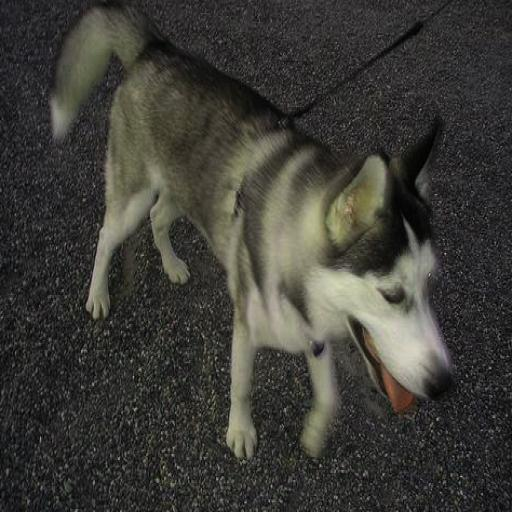dog_face: (319, 132, 458, 407)
